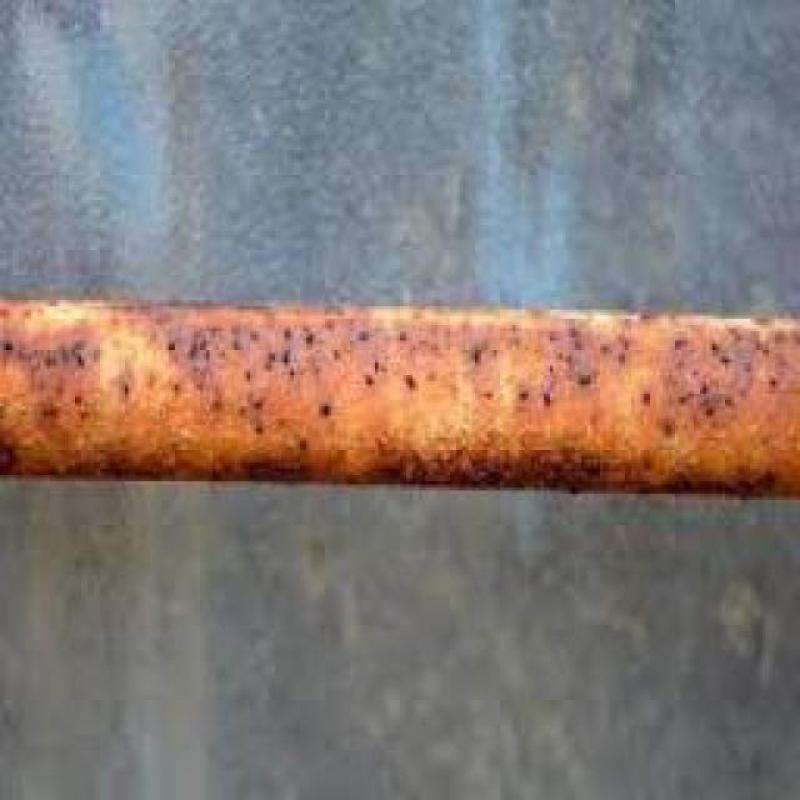corrosion: (0, 296, 798, 495)
